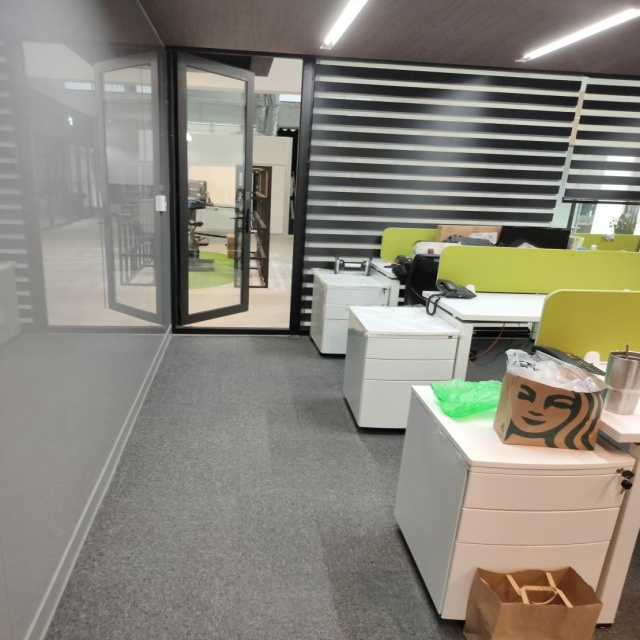02-4kg: (332, 256, 373, 277)
